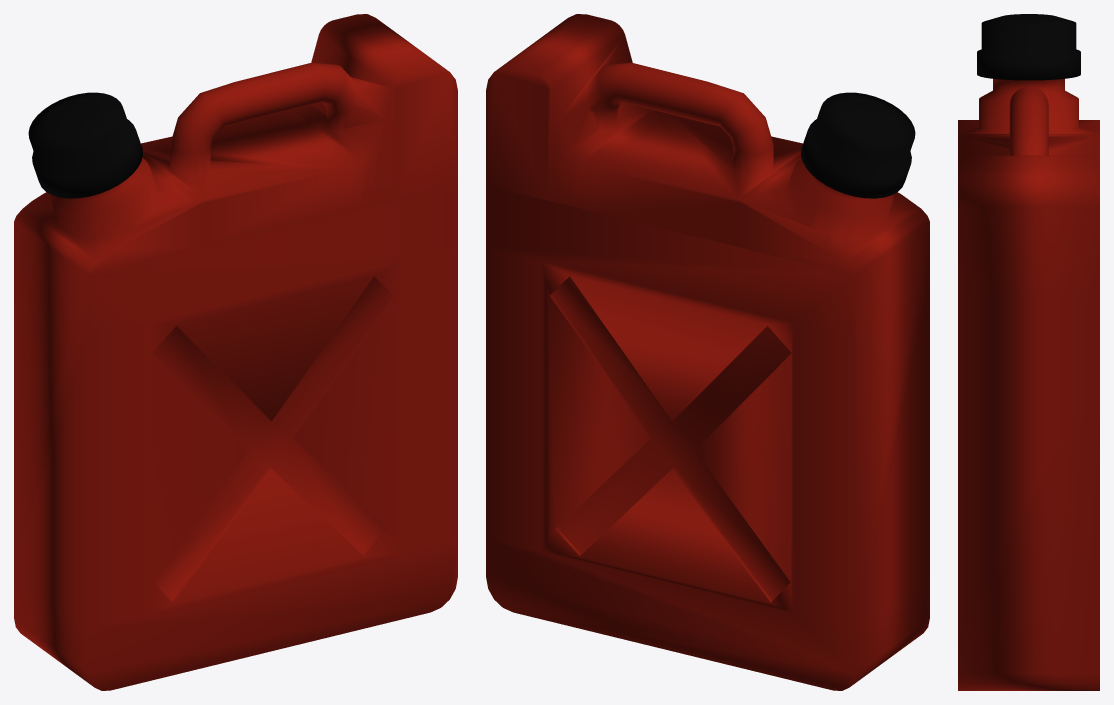
File: Gasolina.fbx
3 renders of one model, left to right at view 1: azimuth 30°, elevation 25°; view 2: azimuth 150°, elevation 25°; view 3: azimuth 270°, elevation 25°, orthographic. The views are drawn at different scales.
Parts seen in each view (by area): view 1: Galão; view 2: Galão; view 3: Galão.
Part boxes in pixels (bbox=[...]): Galão: bbox=[14, 14, 457, 690]; Galão: bbox=[486, 14, 929, 690]; Galão: bbox=[958, 14, 1099, 690].
Bounding box in the file's own units: 71.96 × 98.91 × 24.
